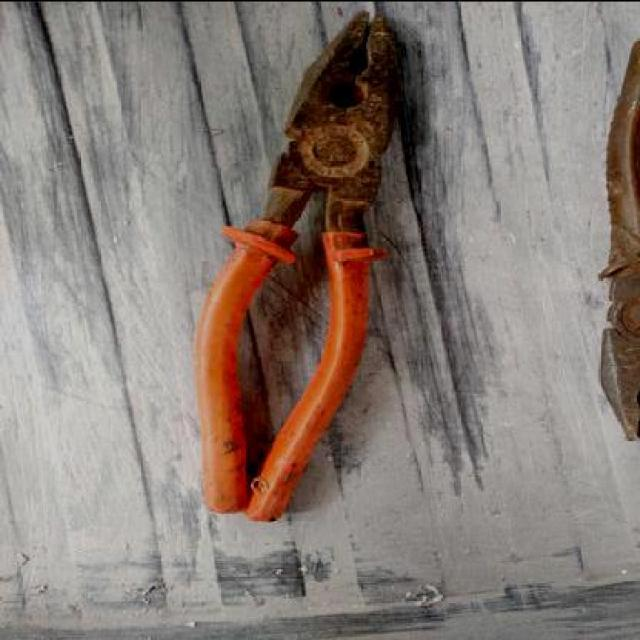pliers: (201, 12, 404, 522)
